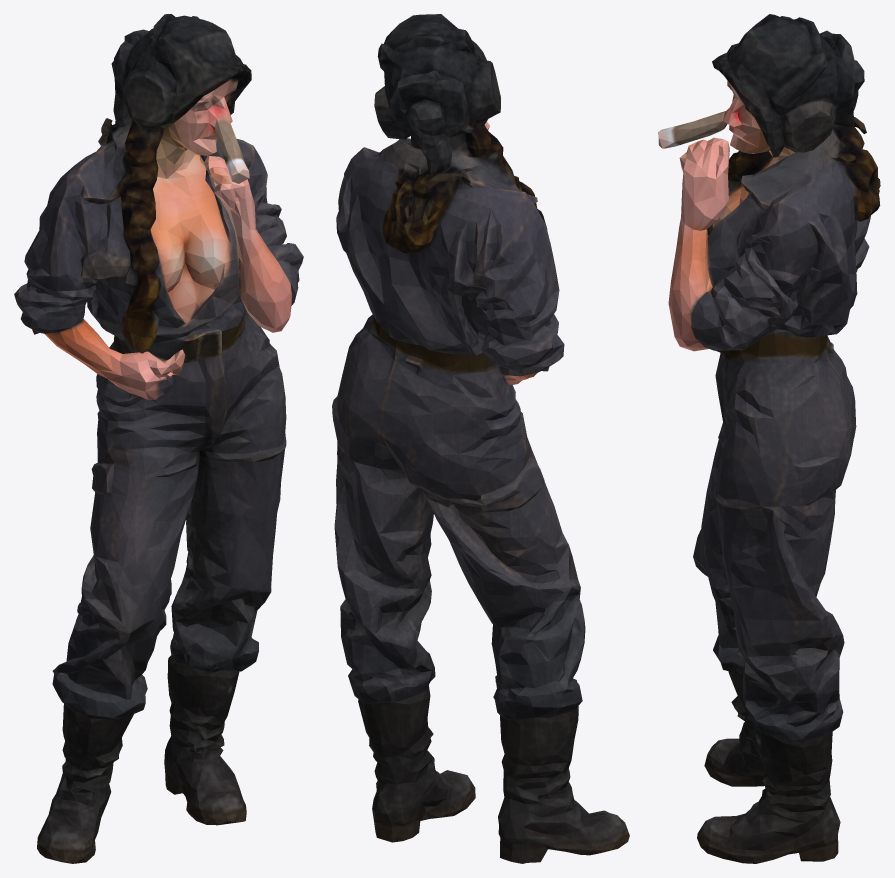
Rendered from crew_su_loader_4_idle.glb.
3 views of the same model, side by side, from view 1: azimuth 30°, elevation 25°; view 2: azimuth 150°, elevation 25°; view 3: azimuth 270°, elevation 25° (orthographic). The views are drawn at different scales.
Visible parts, largest first — view 1: geometry_0; view 2: geometry_0; view 3: geometry_0.
Part boxes in pixels (bbox=[...]): geometry_0: bbox=[14, 14, 303, 863]; geometry_0: bbox=[332, 14, 629, 863]; geometry_0: bbox=[658, 14, 880, 863].
Bounding box in the file's own units: 0.3462 × 1 × 0.2452.
1 material, 1 textured.
